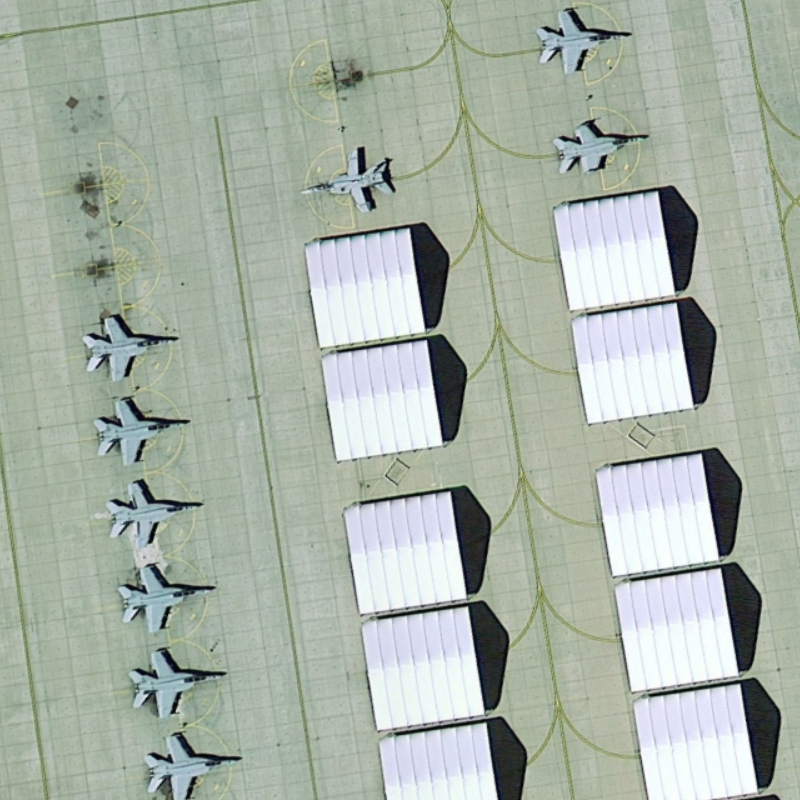A16: (113, 555, 222, 637), (100, 474, 209, 552), (126, 643, 233, 722), (78, 307, 183, 387), (293, 142, 402, 218), (529, 2, 636, 79), (88, 390, 193, 468), (546, 114, 652, 184), (142, 728, 244, 800)
